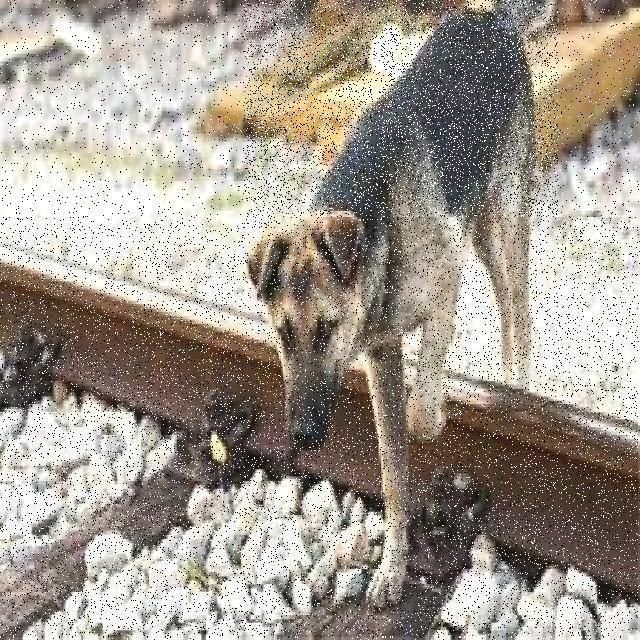rail: (1, 218, 639, 638)
